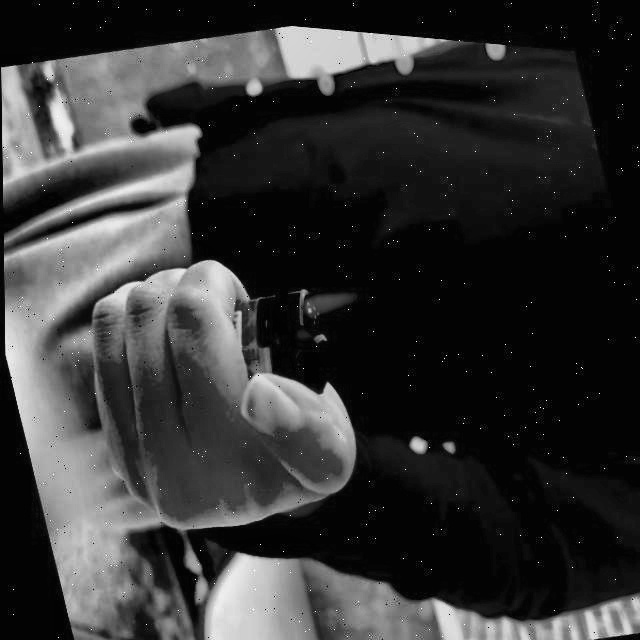Fire: (302, 271, 365, 318)
